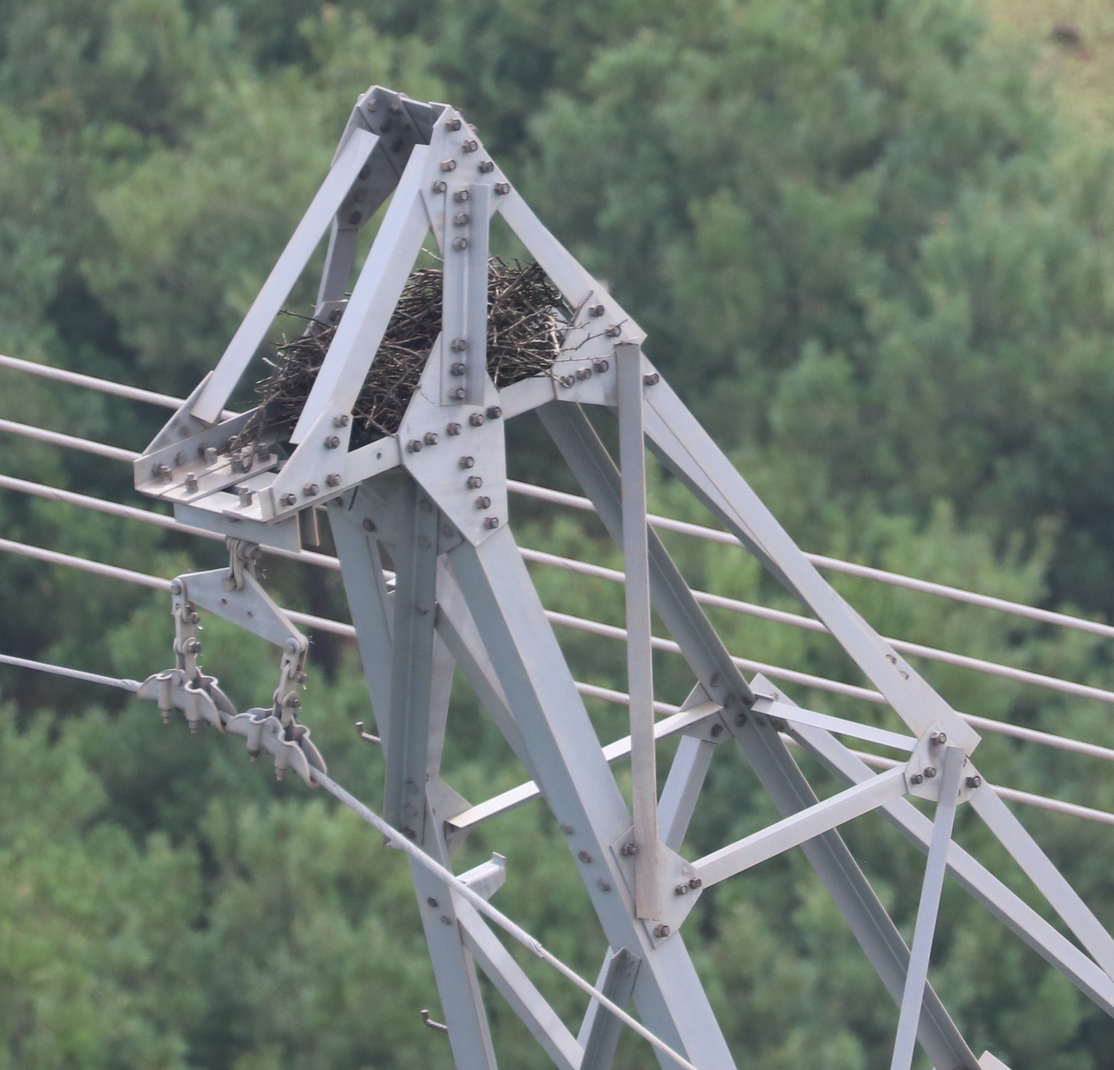nest: (268, 279, 566, 424)
